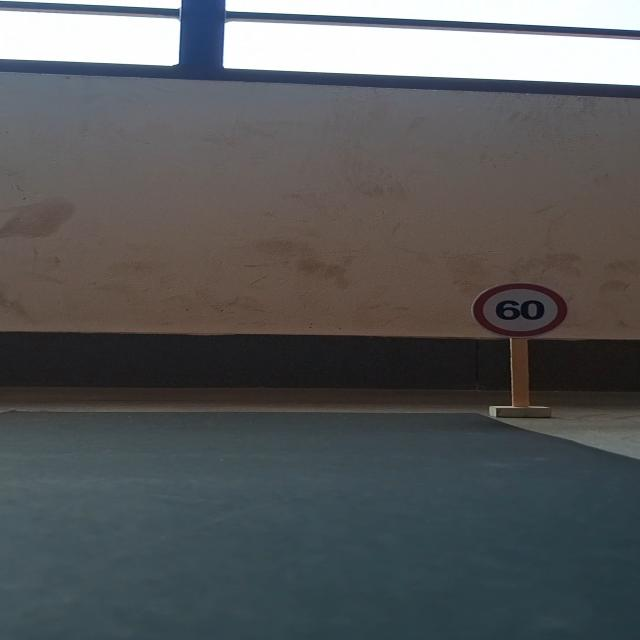Speed60: (473, 282, 565, 336)
